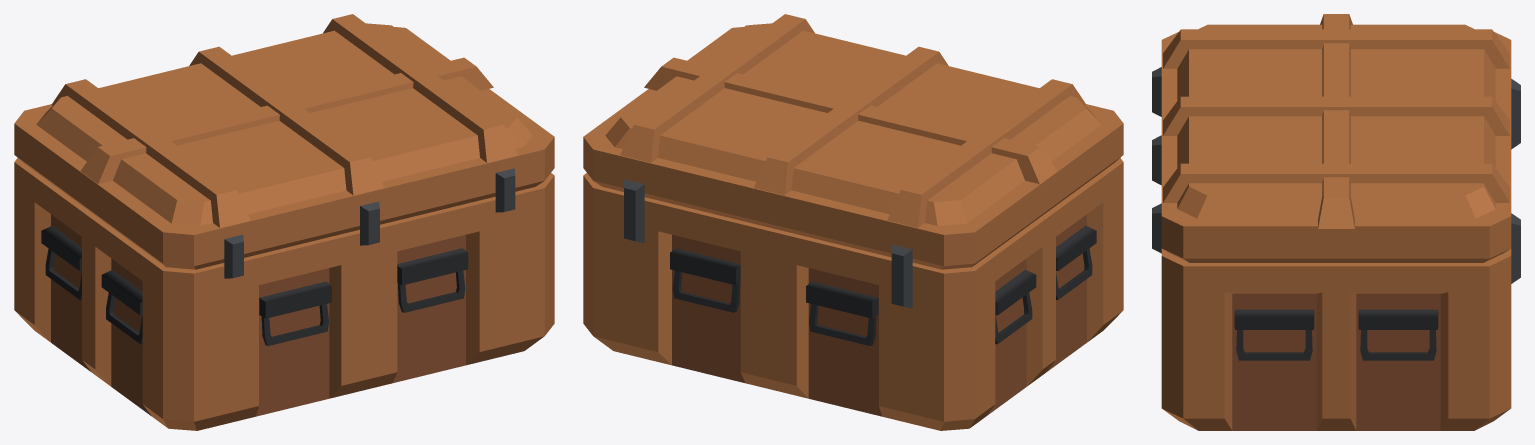
File: SM_Prop_Crate_Plastic_03.fbx
3 views of the same model, side by side, from view 1: azimuth 30°, elevation 25°; view 2: azimuth 150°, elevation 25°; view 3: azimuth 270°, elevation 25° (orthographic). The views are drawn at different scales.
Visible parts, largest first — view 1: SM_Prop_Crate_Plastic_Lid_03, SM_Prop_Crate_Plastic_03; view 2: SM_Prop_Crate_Plastic_03, SM_Prop_Crate_Plastic_Lid_03; view 3: SM_Prop_Crate_Plastic_Lid_03, SM_Prop_Crate_Plastic_03.
Boxes of the visible parts, left/top/right/bottom form: SM_Prop_Crate_Plastic_Lid_03: left=14, top=14, right=554, bottom=278; SM_Prop_Crate_Plastic_03: left=14, top=158, right=554, bottom=430; SM_Prop_Crate_Plastic_03: left=583, top=158, right=1123, bottom=430; SM_Prop_Crate_Plastic_Lid_03: left=583, top=14, right=1123, bottom=269; SM_Prop_Crate_Plastic_Lid_03: left=1152, top=14, right=1511, bottom=262; SM_Prop_Crate_Plastic_03: left=1161, top=79, right=1520, bottom=430.
Size of the model in its own units: 105 by 58.2 by 81.93.
